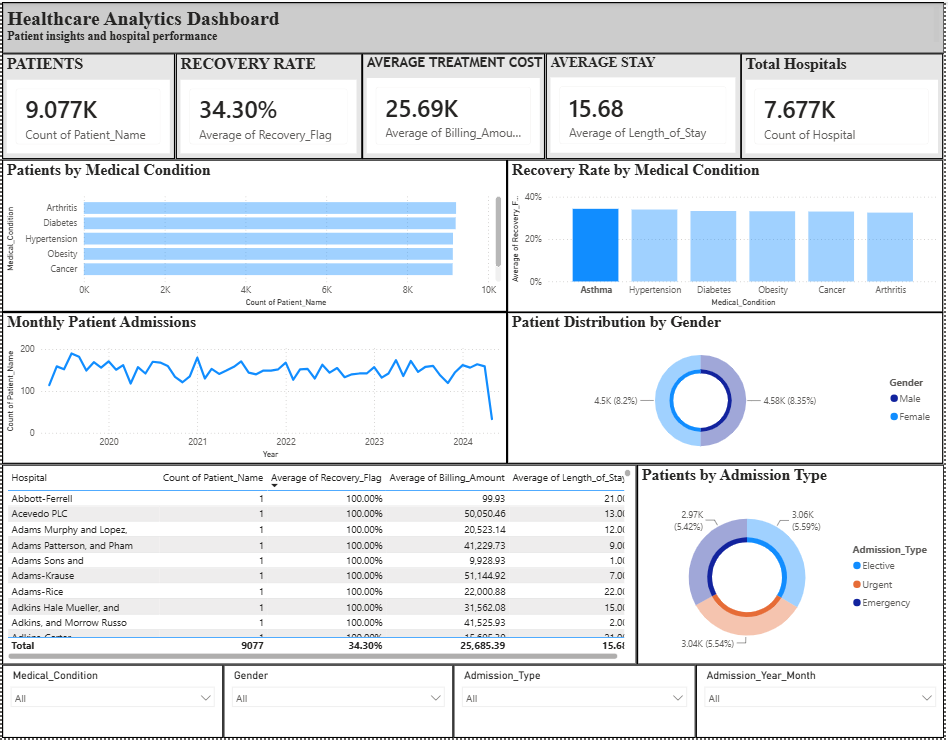

This screenshot's page, from the dashboard's own definition file:
{"tool":"powerbi","page":{"name":"Healthcare Dashboard","canvas":[1280,1000],"ordinal":0},"visuals":[{"type":"textbox","box":[0,0,1280.9,70.3],"z":0},{"type":"cardVisual","title":"PATIENTS","fields":{"Data":["CountNonNull(healthcare_cleaned.Patient_Name)"]},"box":[0,70.3,235.4,143.7],"z":1000},{"type":"cardVisual","title":"RECOVERY RATE","fields":{"Data":["Avg(healthcare_cleaned.Recovery_Flag)"]},"box":[235.4,70.3,253.7,143.7],"z":2000},{"type":"cardVisual","title":"AVERAGE TREATMENT COST","fields":{"Data":["Avg(healthcare_cleaned.Billing_Amount)"]},"box":[489.1,70.3,249.2,143.7],"z":3000},{"type":"cardVisual","title":"AVERAGE STAY","fields":{"Data":["Avg(healthcare_cleaned.Length_of_Stay)"]},"box":[738.3,70.3,266,143.7],"z":4000},{"type":"cardVisual","title":"Total Hospitals","fields":{"Data":["Count(healthcare_cleaned.Hospital)"]},"box":[1004.3,70.3,275.1,143.7],"z":5000},{"type":"clusteredBarChart","title":"Patients by Medical Condition","fields":{"Category":["healthcare_cleaned.Medical_Condition"],"Y":["CountNonNull(healthcare_cleaned.Patient_Name)"]},"box":[0,214,686.1,207.2],"z":6000},{"type":"clusteredColumnChart","title":"Recovery Rate by Medical Condition","fields":{"Category":["healthcare_cleaned.Medical_Condition"],"Y":["Avg(healthcare_cleaned.Recovery_Flag)"]},"box":[686.3,214,593.1,207.9],"z":7000},{"type":"lineChart","title":"Monthly Patient Admissions","fields":{"Category":["healthcare_cleaned.Admission_Year_Month.Variation.Date Hierarchy.Year","healthcare_cleaned.Admission_Year_Month.Variation.Date Hierarchy.Quarter","healthcare_cleaned.Admission_Year_Month.Variation.Date Hierarchy.Month","healthcare_cleaned.Admission_Year_Month.Variation.Date Hierarchy.Day"],"Y":["CountNonNull(healthcare_cleaned.Patient_Name)"]},"box":[0,421.9,686.3,206.4],"z":8000},{"type":"donutChart","title":"Patient Distribution by Gender","fields":{"Category":["healthcare_cleaned.Gender"],"Y":["CountNonNull(healthcare_cleaned.Patient_Name)"]},"box":[686.3,421.9,593.1,206.4],"z":9000},{"type":"donutChart","title":"Patients by Admission Type","fields":{"Category":["healthcare_cleaned.Admission_Type"],"Y":["CountNonNull(healthcare_cleaned.Patient_Name)"]},"box":[862.1,628.2,417.3,272.1],"z":10000},{"type":"tableEx","fields":{"Values":["healthcare_cleaned.Hospital","healthcare_cleaned.Patient_Name","Avg(healthcare_cleaned.Recovery_Flag)","Avg(healthcare_cleaned.Billing_Amount)","Avg(healthcare_cleaned.Length_of_Stay)"]},"box":[0,628.2,862.1,272.1],"z":11000},{"type":"slicer","fields":{"Values":["healthcare_cleaned.Medical_Condition"]},"box":[0,900.1,300.6,100.2],"z":11001},{"type":"slicer","fields":{"Values":["healthcare_cleaned.Gender"]},"box":[300.6,900.1,312.5,100.2],"z":11002},{"type":"slicer","fields":{"Values":["healthcare_cleaned.Admission_Type"]},"box":[613.1,900.1,329.5,100.2],"z":11003},{"type":"slicer","fields":{"Values":["healthcare_cleaned.Admission_Year_Month"]},"box":[942.6,900.1,338,100.2],"z":11004}]}

Visuals, with their boxes in screenshot pixels (x1, y1, x2, y2), scaled from the page's 1280x1000 canvas onto the 948x743 screenshot:
textbox: detection(0, 0, 947, 52)
"PATIENTS" cardVisual: detection(0, 52, 174, 159)
"RECOVERY RATE" cardVisual: detection(174, 52, 362, 159)
"AVERAGE TREATMENT COST" cardVisual: detection(362, 52, 547, 159)
"AVERAGE STAY" cardVisual: detection(547, 52, 744, 159)
"Total Hospitals" cardVisual: detection(744, 52, 947, 159)
"Patients by Medical Condition" clusteredBarChart: detection(0, 159, 508, 313)
"Recovery Rate by Medical Condition" clusteredColumnChart: detection(508, 159, 947, 313)
"Monthly Patient Admissions" lineChart: detection(0, 313, 508, 467)
"Patient Distribution by Gender" donutChart: detection(508, 313, 947, 467)
"Patients by Admission Type" donutChart: detection(638, 467, 947, 669)
tableEx - healthcare_cleaned.Hospital x healthcare_cleaned.Patient_Name: detection(0, 467, 638, 669)
slicer - healthcare_cleaned.Medical_Condition: detection(0, 669, 223, 742)
slicer - healthcare_cleaned.Gender: detection(223, 669, 454, 742)
slicer - healthcare_cleaned.Admission_Type: detection(454, 669, 698, 742)
slicer - healthcare_cleaned.Admission_Year_Month: detection(698, 669, 947, 742)
